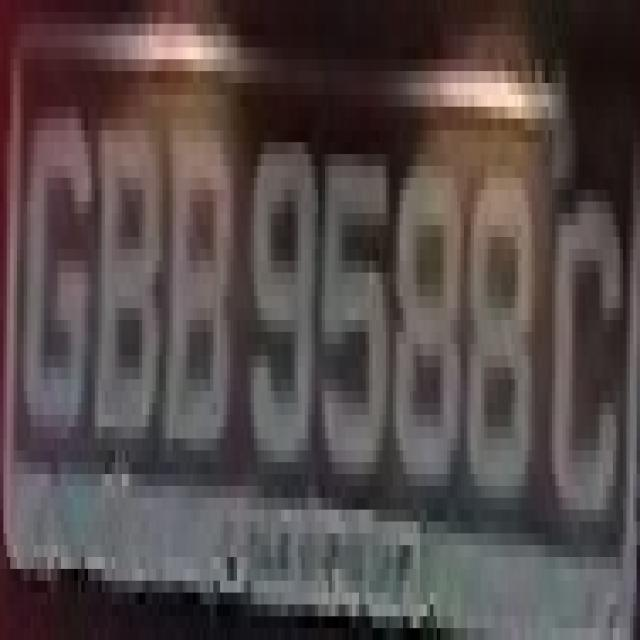5: (325, 130, 396, 498)
8: (464, 142, 545, 510), (393, 142, 460, 510)
9: (244, 130, 318, 498)
B: (91, 106, 162, 498), (163, 95, 230, 498)
C: (552, 154, 620, 569)
G: (24, 95, 95, 450)
